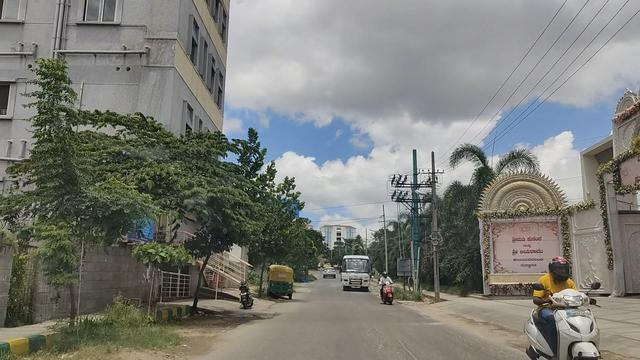HMV: (335, 250, 374, 296)
